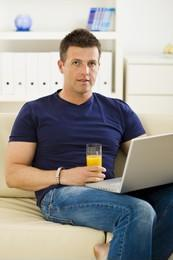face: (63, 56, 100, 92)
